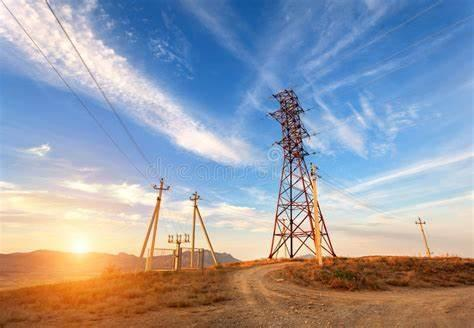power_tower: (265, 88, 335, 268)
